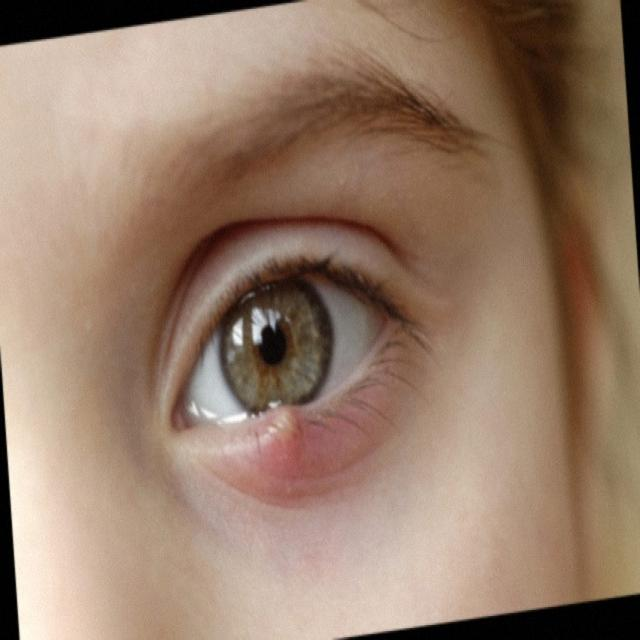Chalazion: (138, 238, 441, 471)
